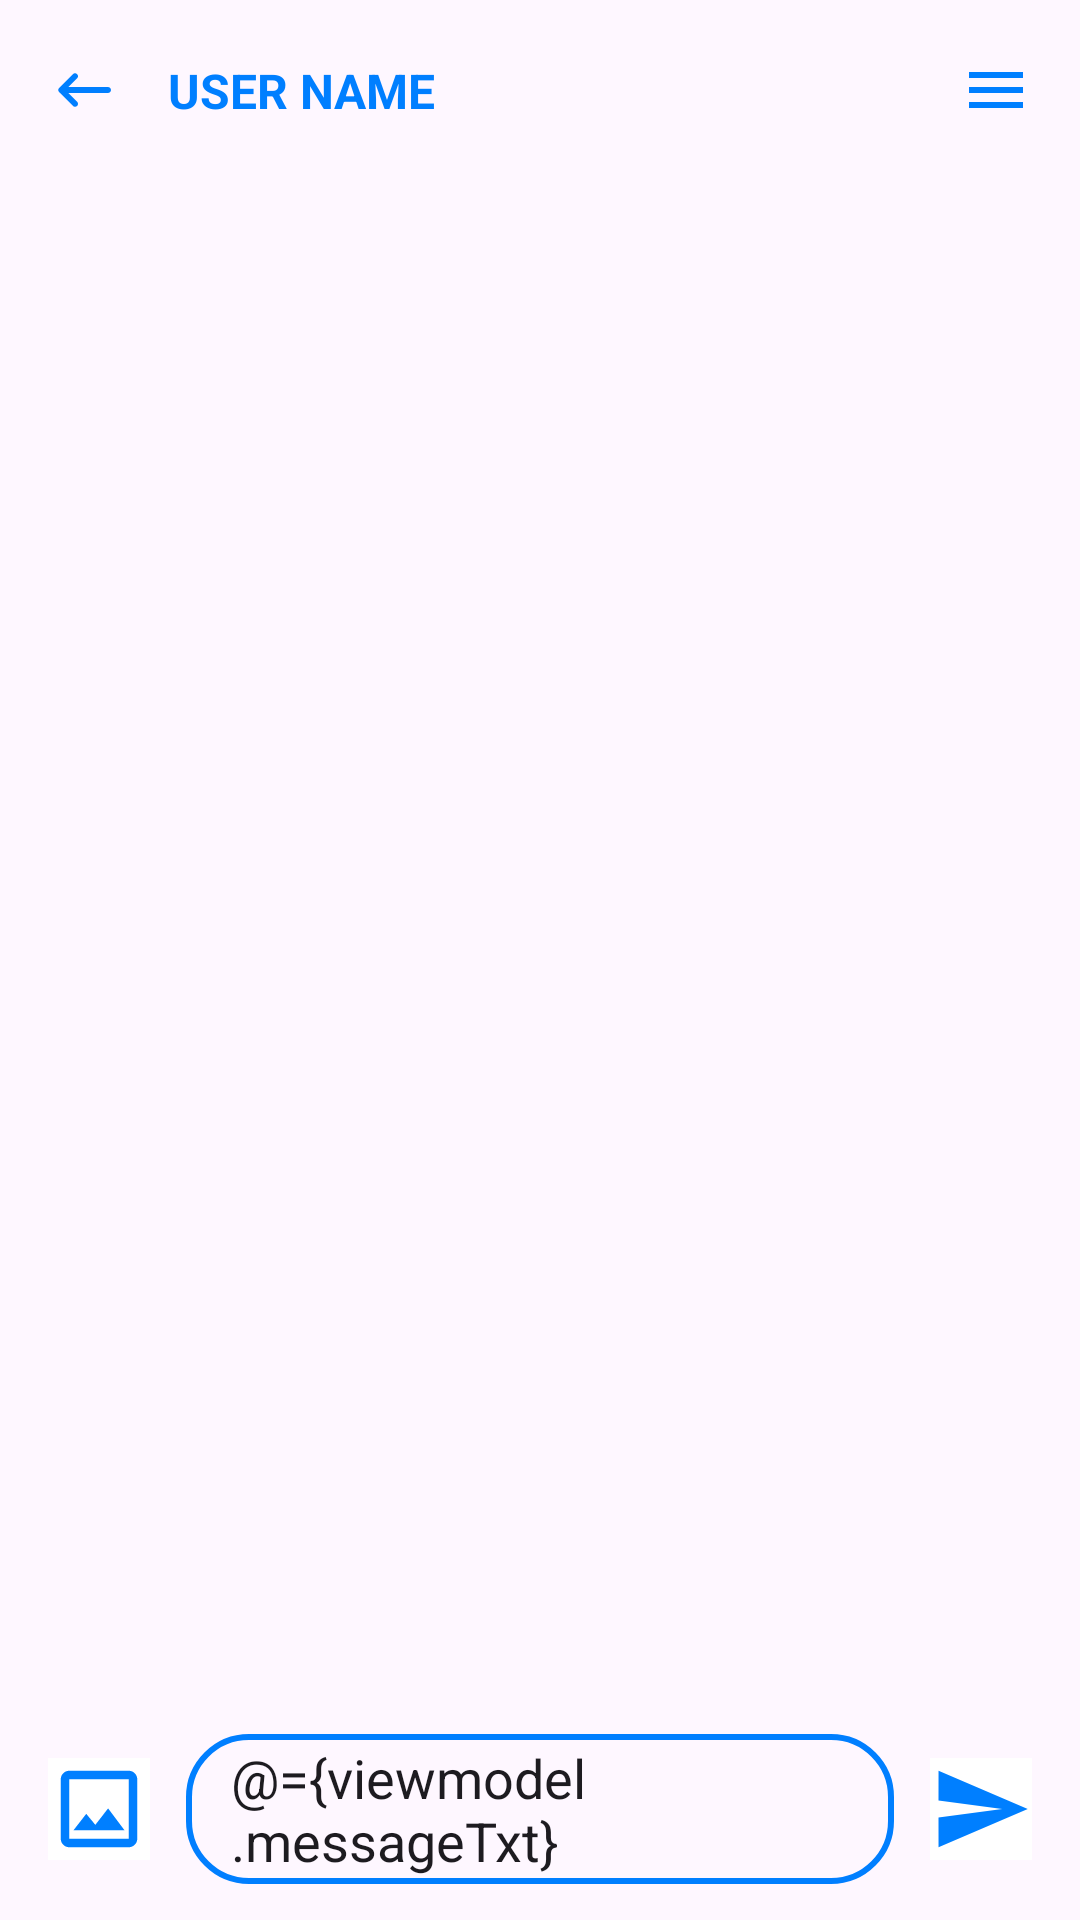

Icon click points for this 1080 × 1920 phone screenshot, format (x,y):
keyboard backspace: (84,90)
menu: (996,90)
send: (983,1809)
